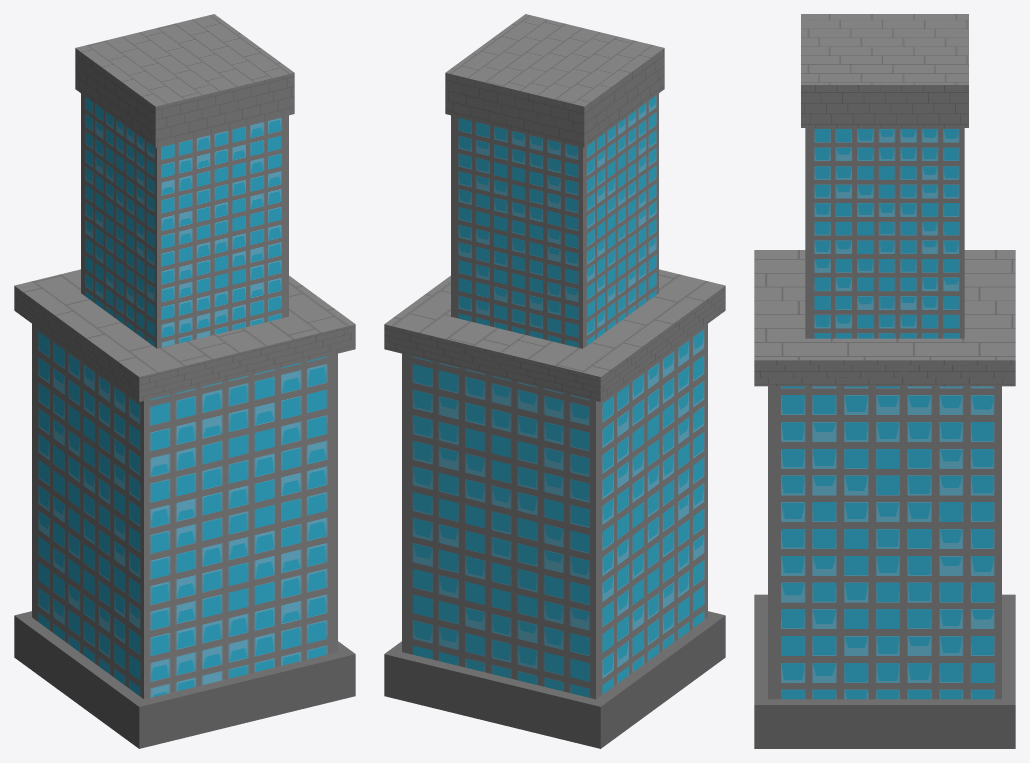
Rendered from skyscratcher4.fbx.
3 views of the same model, side by side, from view 1: azimuth 30°, elevation 25°; view 2: azimuth 150°, elevation 25°; view 3: azimuth 270°, elevation 25° (orthographic). The views are drawn at different scales.
Parts seen in each view (by area): view 1: SkyScratcher4; view 2: SkyScratcher4; view 3: SkyScratcher4.
Part boxes in pixels (<box>): SkyScratcher4: <box>14,14,355,748</box>; SkyScratcher4: <box>384,14,725,748</box>; SkyScratcher4: <box>754,14,1015,748</box>.
Bounding box in the file's own units: 130 × 353 × 130.
